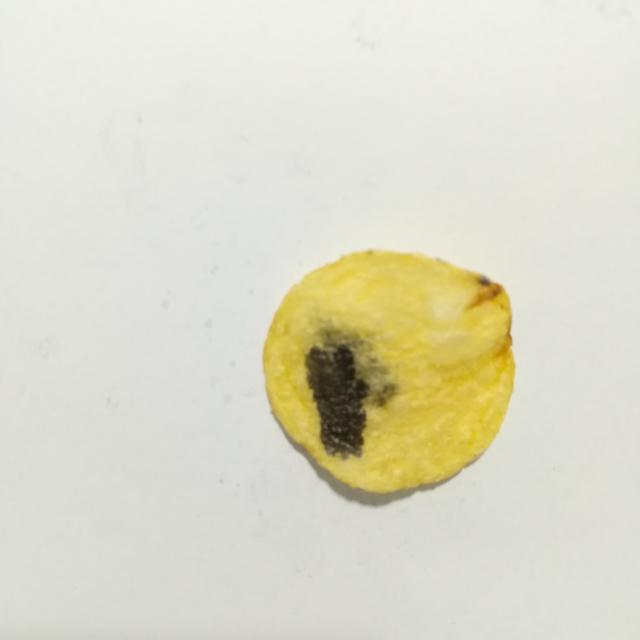chip: (263, 250, 514, 493)
damaged: (306, 344, 368, 458), (478, 275, 491, 286)
semi-damaged: (315, 323, 395, 406)
